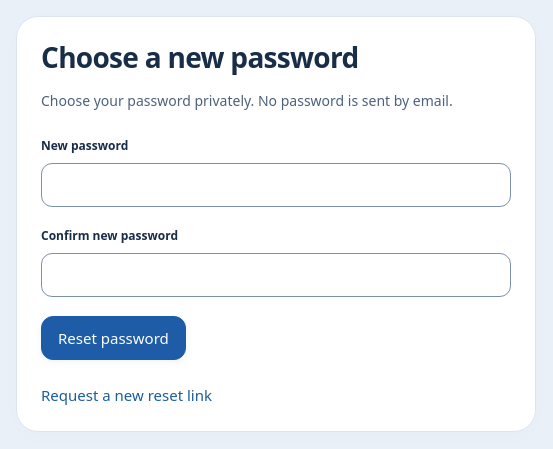
Scenario: private password reset links › locks an uncertain password change instead of repeating it ({"name":"ApiError","status":0,"details":null,"retryAfter":null})
Step 1. Type "synthetic-new-password" into the password field labelled "New password" → (276, 185), box [41,163,511,207]
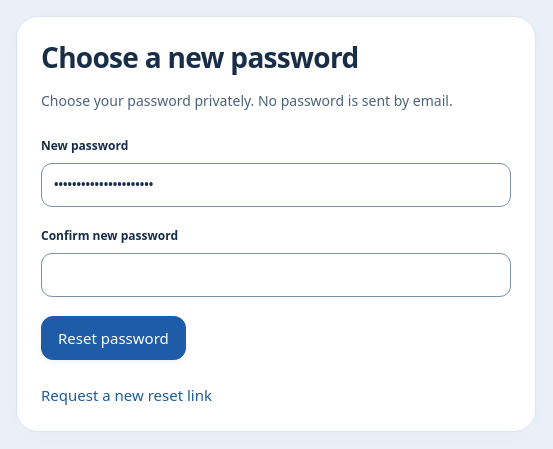
Step 2. Type "synthetic-new-password" into the password field labelled "Confirm new password" → (276, 275), box [41,253,511,297]
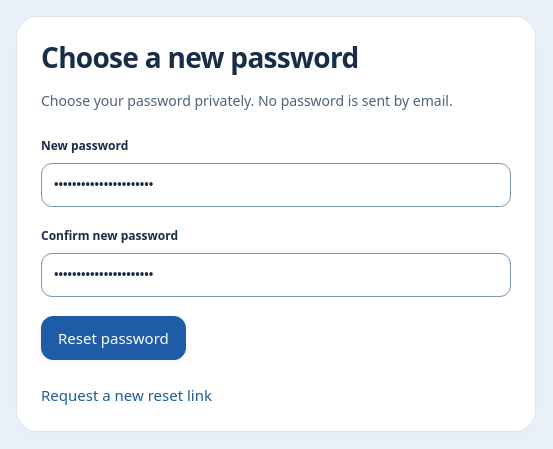
Step 3. Click the button "Reset password" → (113, 338), box [41,316,186,360]
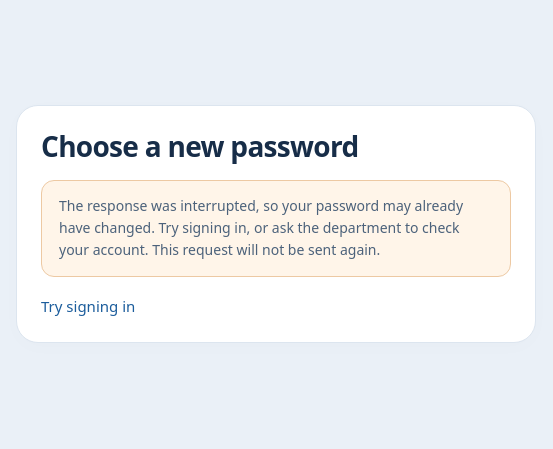
Check: the link "Try signing in" is shown, box [41,296,135,316]
Check: the message shows "password may already have changed", box [59,196,463,260]
Check: the button "Reset password" is gone
